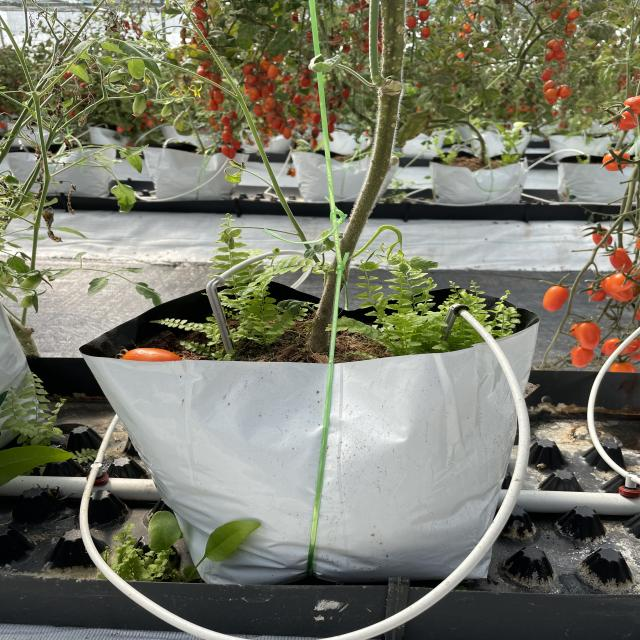Obstacle: (201, 249, 324, 357), (435, 302, 523, 409)
Soilbag: (82, 323, 539, 587)
plant: (145, 38, 450, 348)
